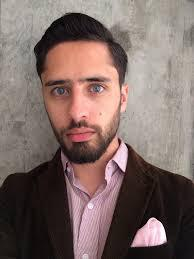face: (40, 41, 118, 161)
